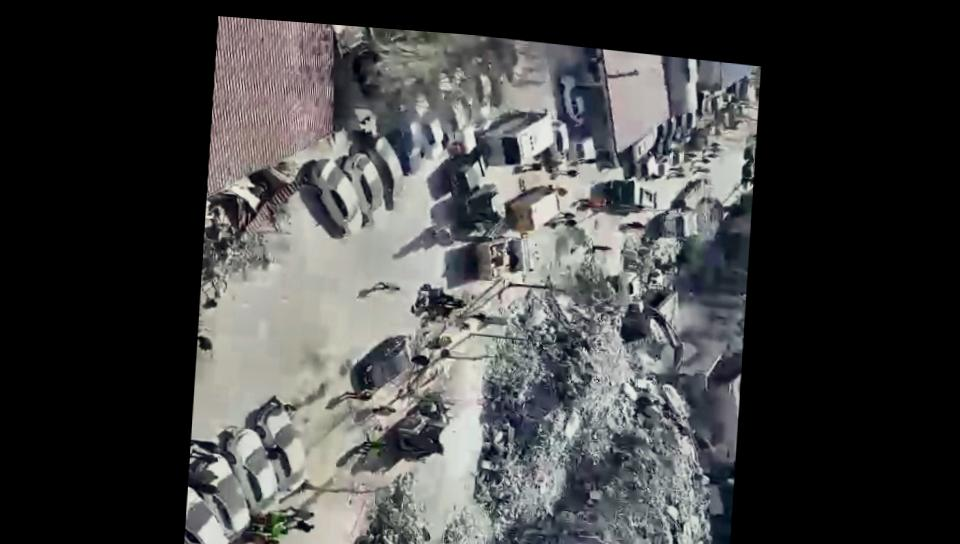kapali: (268, 208, 662, 544)
